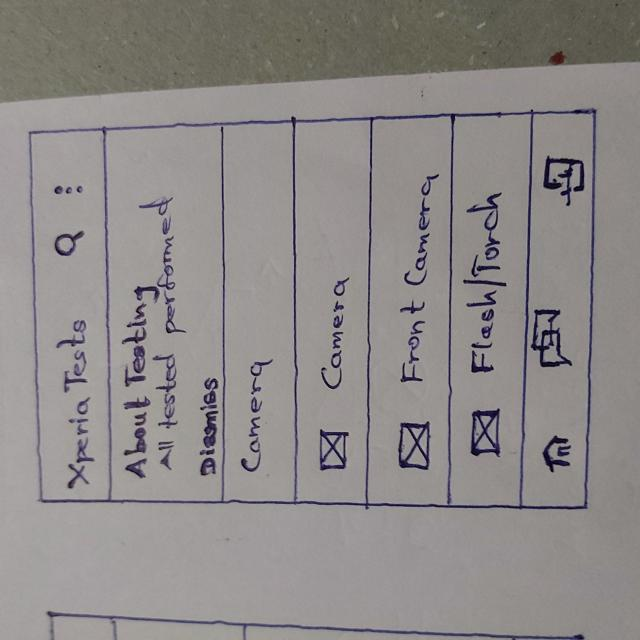ActionButton: (31, 223, 109, 273), (29, 171, 107, 211)
AppBar: (26, 125, 114, 505)
BottomNavBar: (518, 107, 598, 511)
BottomNavItems: (521, 299, 594, 389), (517, 429, 592, 494), (528, 148, 599, 216)
Icon: (532, 306, 574, 375), (543, 154, 587, 203), (540, 434, 575, 472), (51, 230, 89, 257), (50, 180, 86, 201)
Image: (468, 408, 505, 465), (395, 419, 433, 473), (318, 427, 351, 474)
Layout: (104, 124, 228, 504), (366, 113, 454, 511), (288, 116, 375, 509), (447, 111, 529, 514)
ListView: (293, 112, 522, 508)
MainLayout: (19, 107, 609, 515)
TextView: (148, 195, 186, 476), (462, 192, 510, 381), (392, 169, 433, 389), (54, 317, 97, 487), (120, 283, 152, 482), (315, 271, 354, 398), (240, 359, 269, 479), (197, 372, 220, 477)
VerticalListView: (290, 113, 524, 508)
